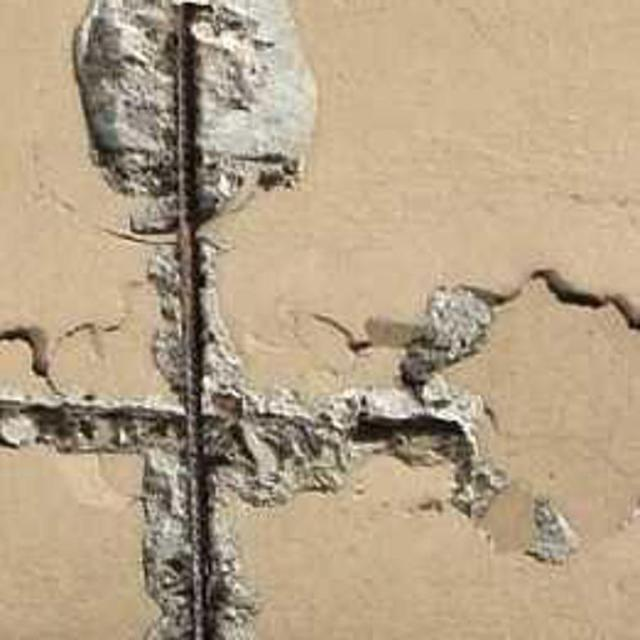spalling: (0, 0, 639, 637)
